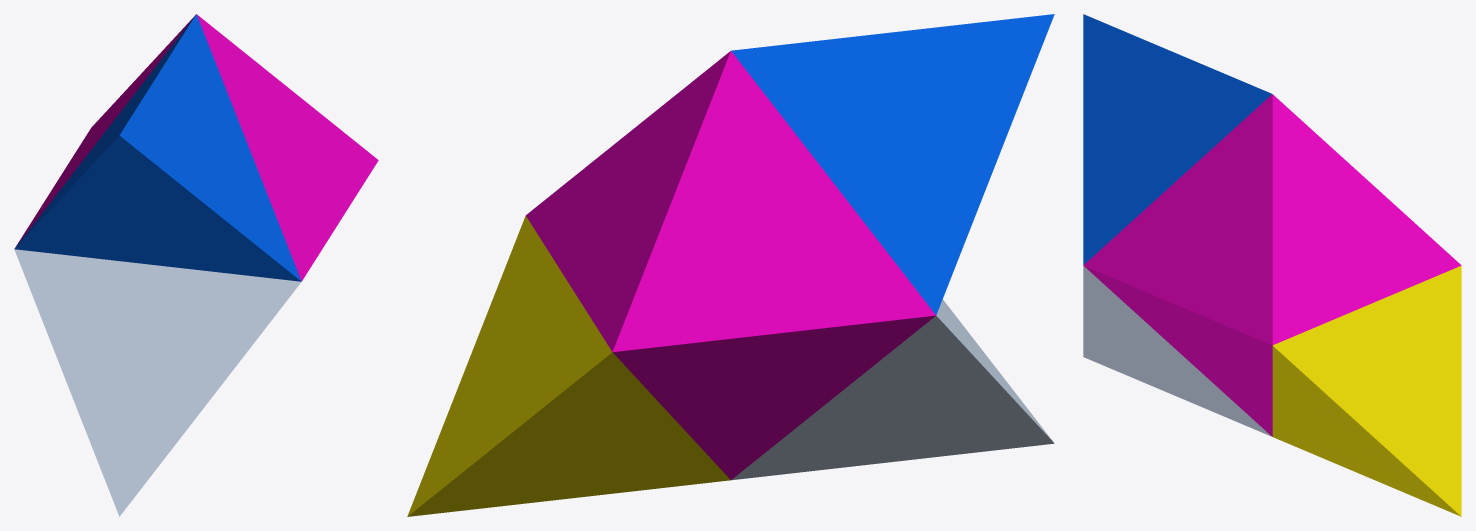
The model's file is octTet_9.glb.
The picture shows the model from 3 angles, left to right: view 1: azimuth 30°, elevation 25°; view 2: azimuth 150°, elevation 25°; view 3: azimuth 270°, elevation 25°; orthographic projection. The views are drawn at different scales.
Size of the model in its own units: 4 by 4 by 4.
